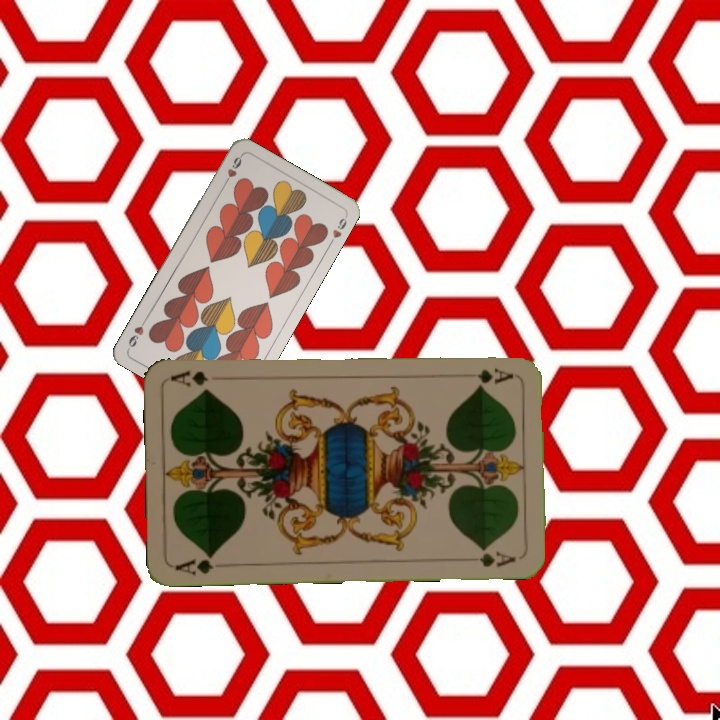GA: (171, 550, 218, 578), (474, 364, 516, 386)
H9: (219, 152, 245, 189)
